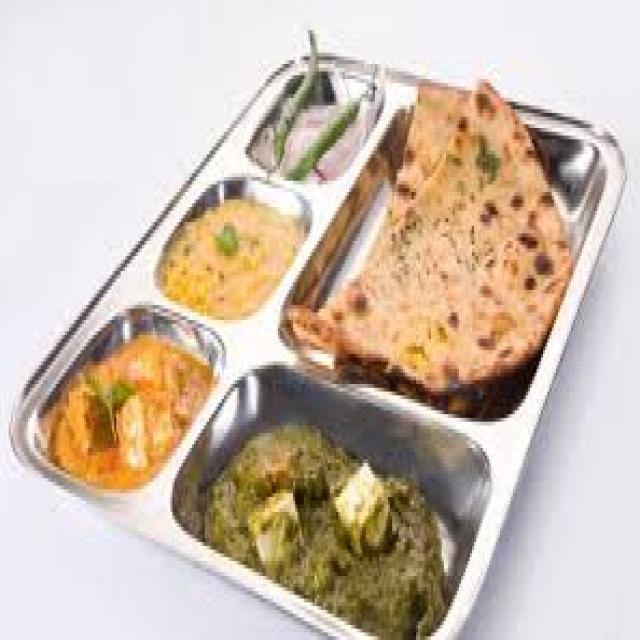dal: (152, 169, 314, 329)
rice: (198, 392, 410, 615)
roti: (348, 82, 564, 423)
veg-fry: (197, 387, 422, 630), (36, 300, 222, 516)
